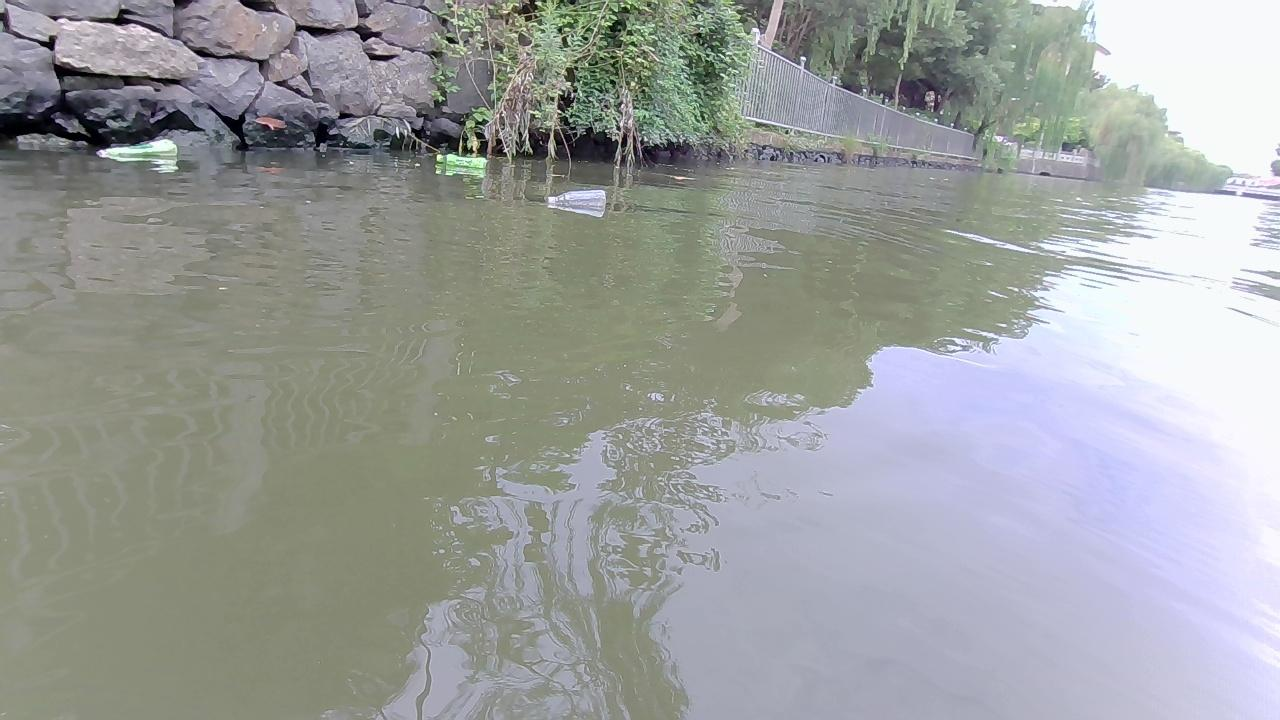bottle: (93, 138, 177, 158), (545, 189, 607, 205), (434, 152, 486, 167)
